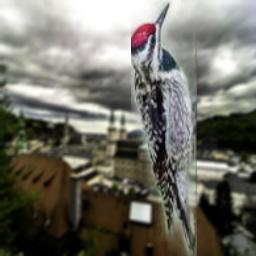Woodpecker: (131, 0, 197, 256)
